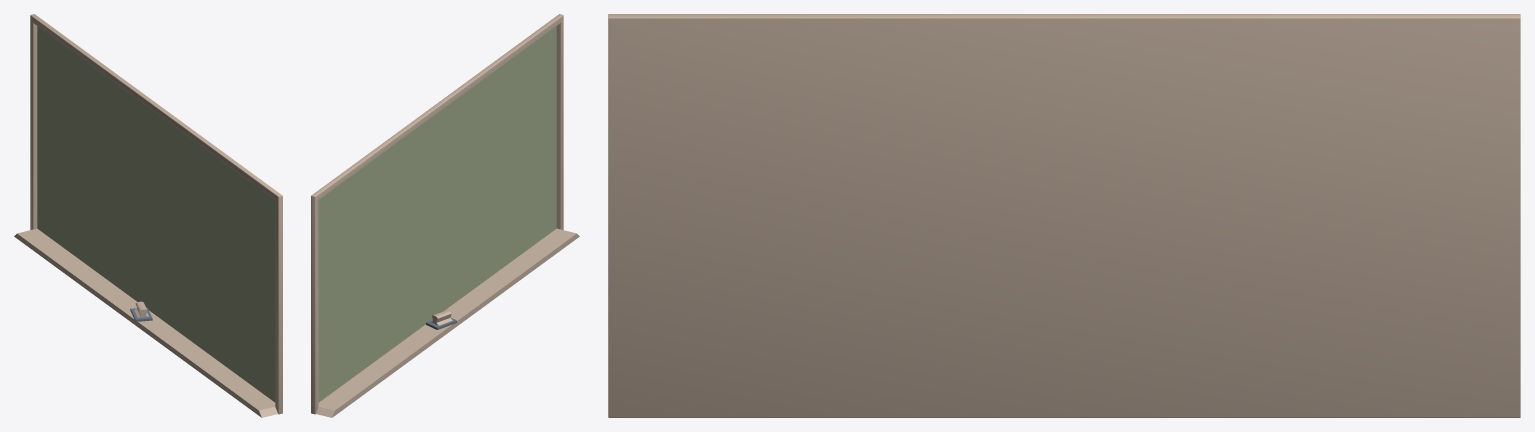
Rendered from pizarra.gltf.
The picture shows the model from 3 angles, left to right: view 1: azimuth 30°, elevation 25°; view 2: azimuth 150°, elevation 25°; view 3: azimuth 270°, elevation 25°; orthographic projection. The views are drawn at different scales.
Parts seen in each view (by area): view 1: Cube.1-Mat.2, Cube.1-Mat; view 2: Cube.1-Mat.2, Cube.1-Mat; view 3: Cube.1-Mat.
Boxes of the visible parts, left/top/right/bottom form: Cube.1-Mat.2: left=37, top=26, right=275, bottom=402; Cube.1-Mat: left=14, top=14, right=282, bottom=417; Cube.1-Mat.2: left=318, top=26, right=556, bottom=402; Cube.1-Mat: left=311, top=14, right=579, bottom=417; Cube.1-Mat: left=608, top=14, right=1520, bottom=417.
Size of the model in its own units: 145 by 1334 by 2754.
